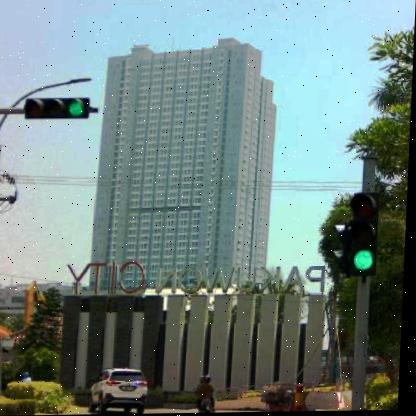Traffic Light -Green-: (349, 192, 383, 279), (25, 97, 90, 120)
